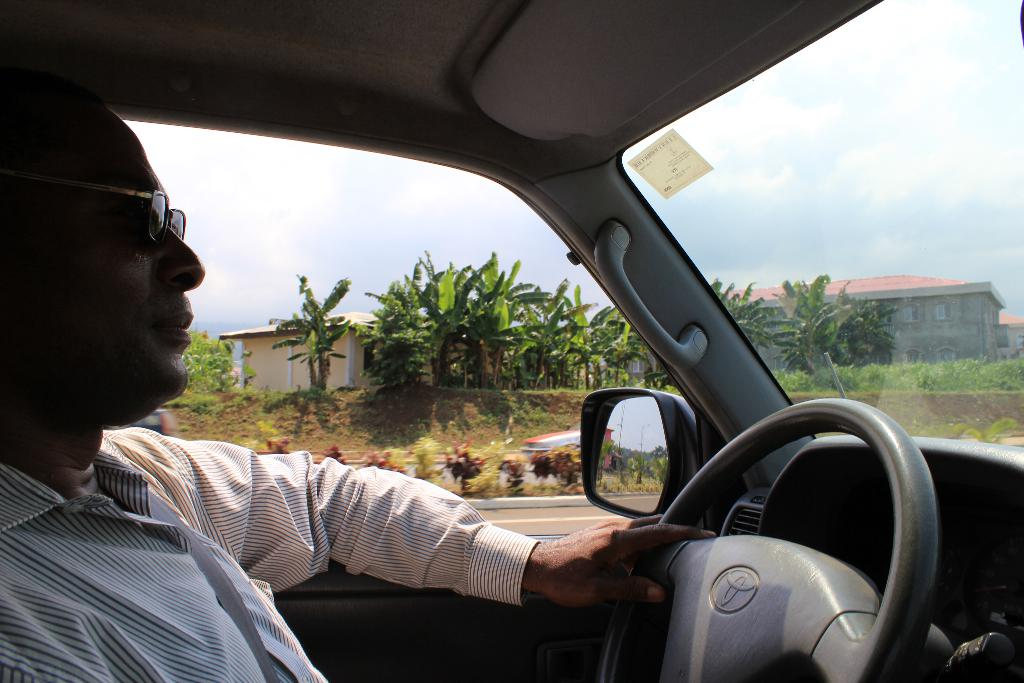Car: (16, 21, 984, 675), (519, 419, 582, 456), (104, 406, 175, 438)
